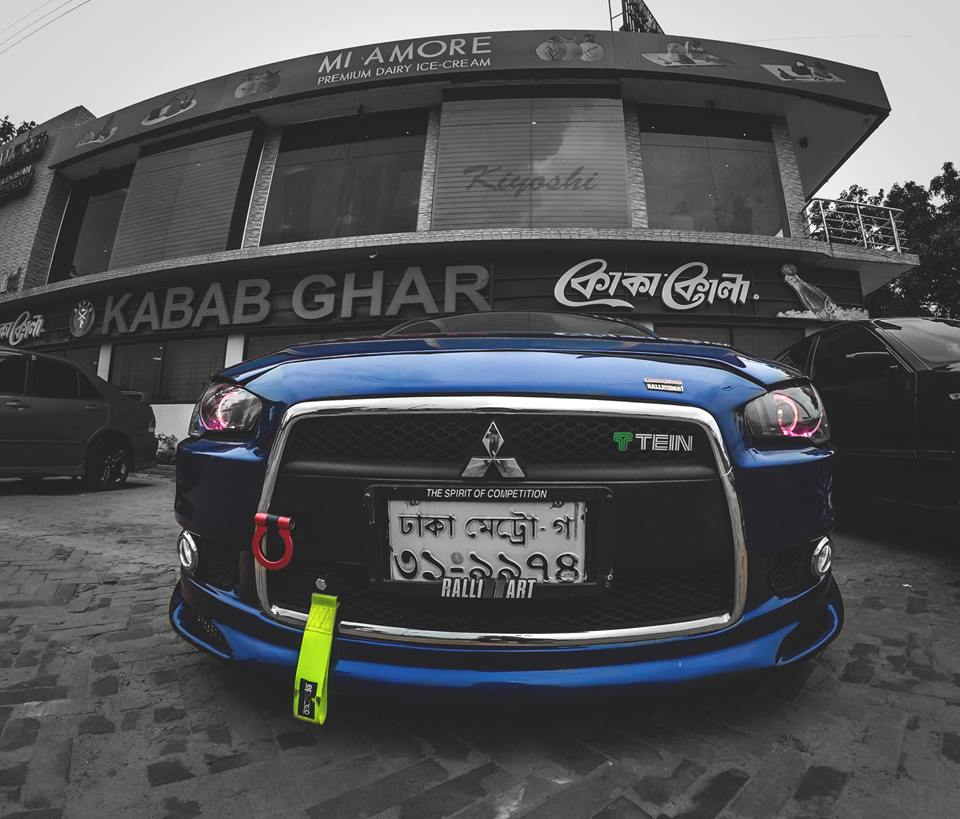registration_plate: (386, 498, 586, 586)
